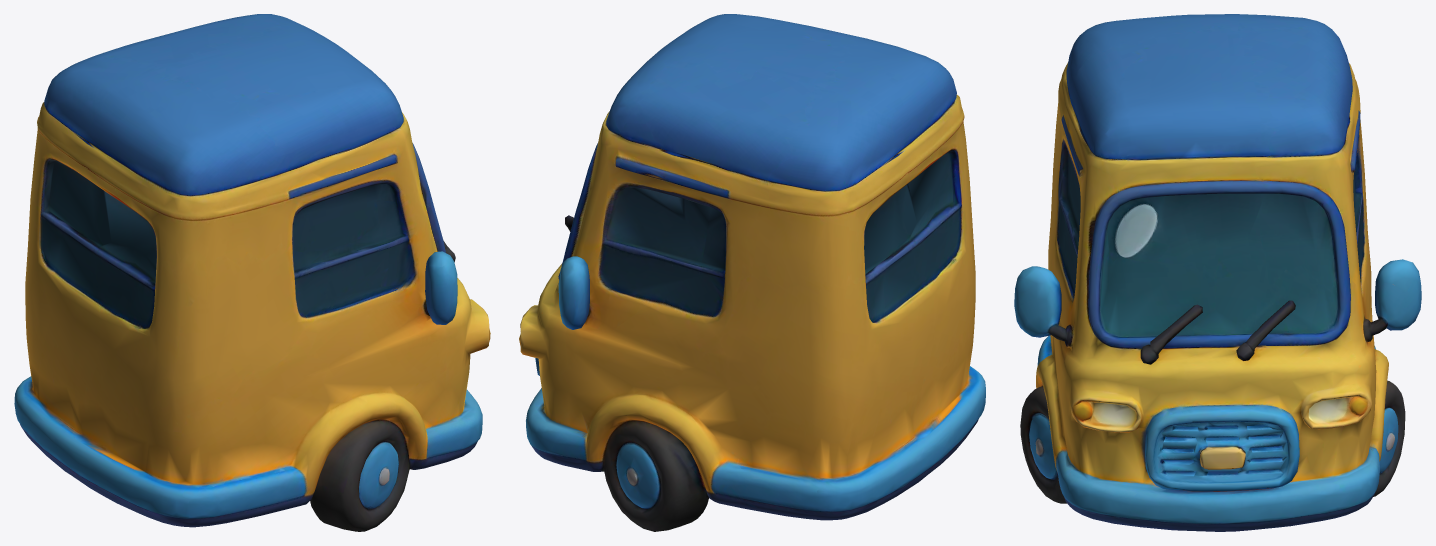
The model's file is city_bus.glb.
3 views of the same model, side by side, from view 1: azimuth 30°, elevation 25°; view 2: azimuth 150°, elevation 25°; view 3: azimuth 270°, elevation 25° (orthographic).
Parts seen in each view (by area): view 1: tripo_node_fd7a1092-da2b-4f68-8241-97bce092d396; view 2: tripo_node_fd7a1092-da2b-4f68-8241-97bce092d396; view 3: tripo_node_fd7a1092-da2b-4f68-8241-97bce092d396.
Boxes of the visible parts, x1,y1,x2,y2 form: tripo_node_fd7a1092-da2b-4f68-8241-97bce092d396: (14, 14, 490, 531); tripo_node_fd7a1092-da2b-4f68-8241-97bce092d396: (519, 14, 985, 531); tripo_node_fd7a1092-da2b-4f68-8241-97bce092d396: (1014, 14, 1421, 531).
Bounding box in the file's own units: 1.11 × 1.2 × 1.06.
Materials: 1 (1 with a texture image).
